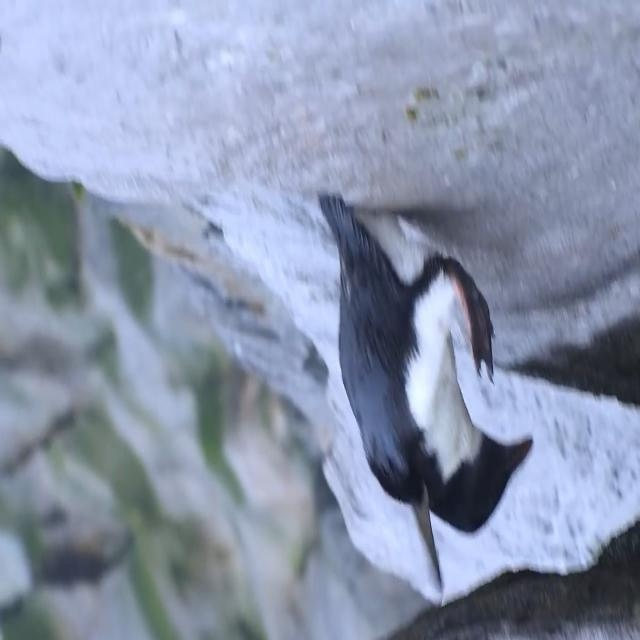penguin: (315, 192, 536, 605)
